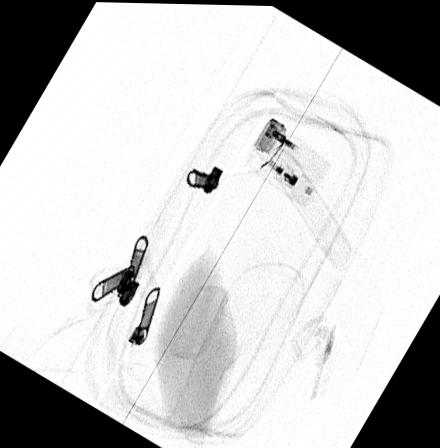Lighter: (243, 116, 330, 203)
